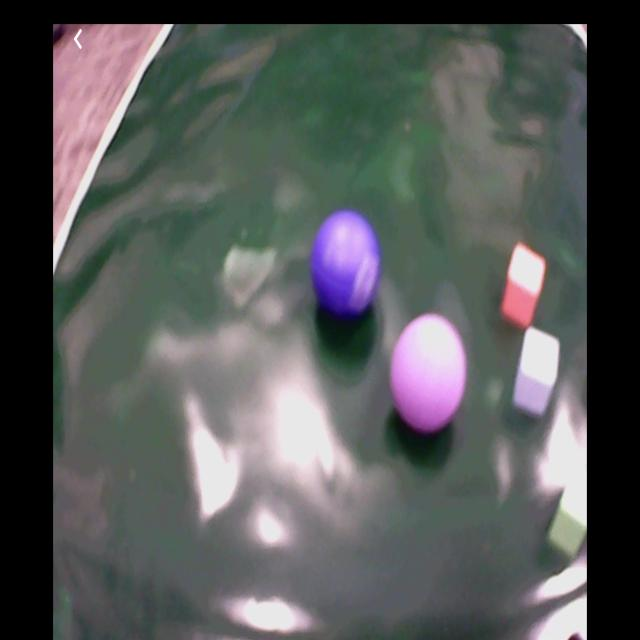ball: (392, 316, 468, 431), (315, 212, 380, 318)
